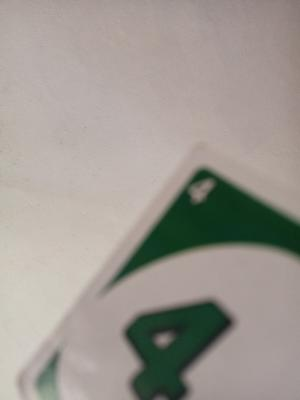num_4: (181, 172, 226, 210)
